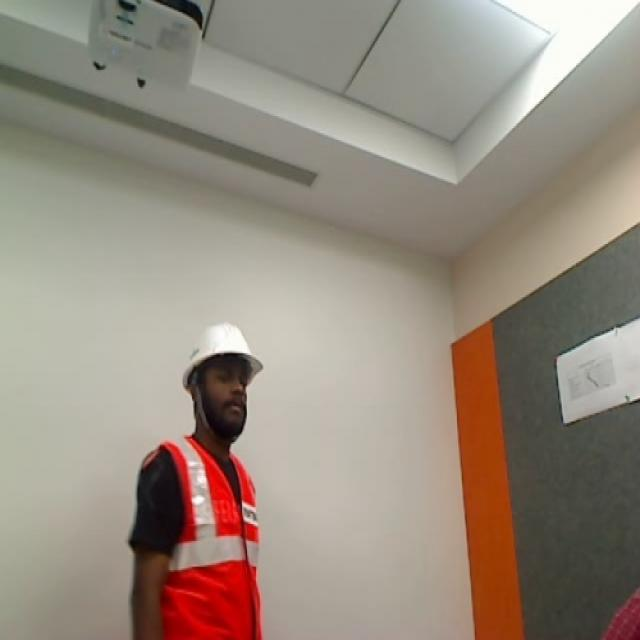safety_helmet: (130, 435, 266, 640)
